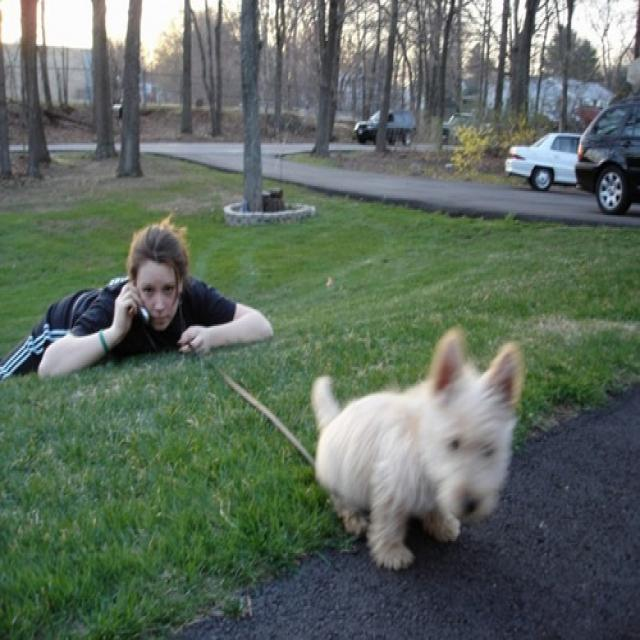dog-scottish_terrier: (306, 321, 526, 572)
